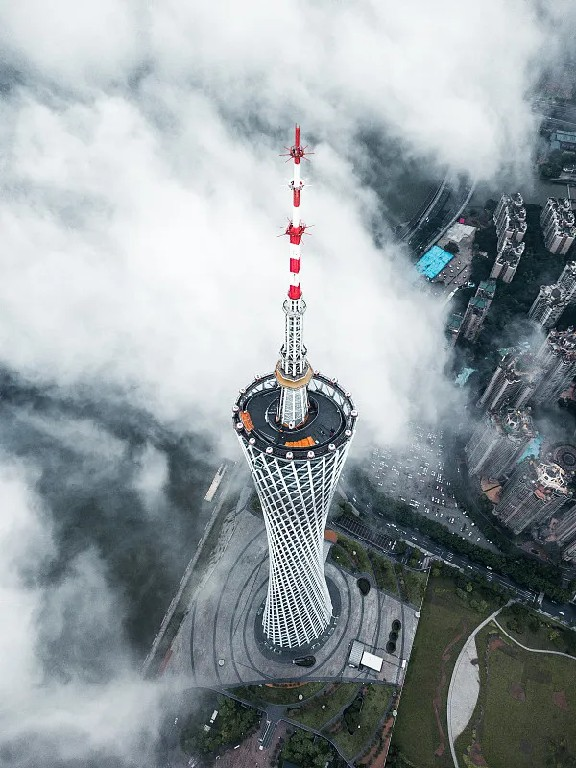Canton: (231, 124, 357, 654)
